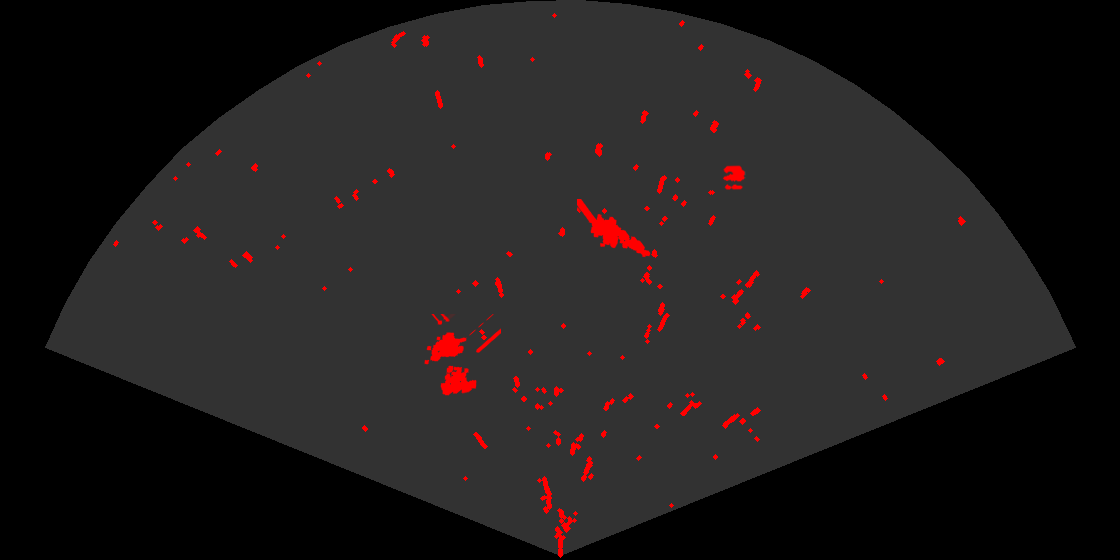ball: (721, 164, 746, 191)
cage: (423, 314, 501, 397)
frogman: (577, 199, 652, 259)
